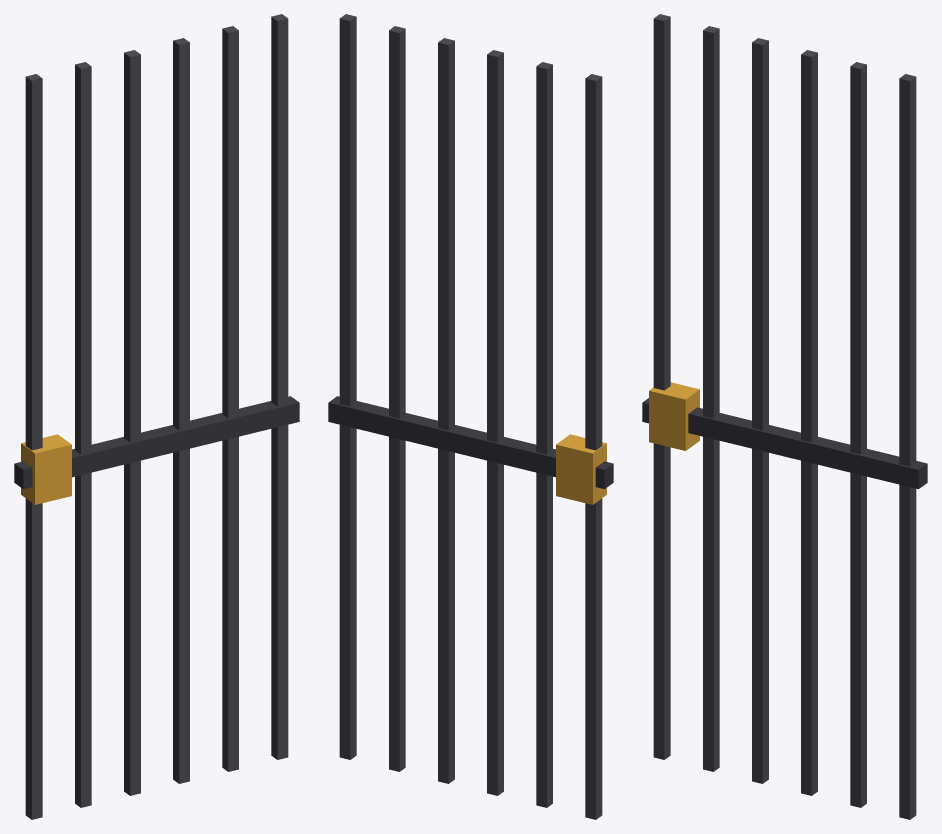
Rendered from cell_door.glb.
3 renders of one model, left to right at view 1: azimuth 30°, elevation 25°; view 2: azimuth 150°, elevation 25°; view 3: azimuth 330°, elevation 25°, orthographic.
Parts seen in each view (by area): view 1: Box1, Box6, Box5, Box2, Box4, Box3, Box7, Box8; view 2: Box1, Box6, Box5, Box2, Box4, Box3, Box7, Box8; view 3: Box1, Box6, Box2, Box5, Box3, Box4, Box7, Box8.
Part boxes in pixels (x1,y1,x2,y2): Box1: [271, 14, 288, 759]; Box6: [25, 74, 42, 819]; Box5: [75, 62, 91, 807]; Box2: [222, 26, 238, 771]; Box4: [124, 50, 140, 795]; Box3: [173, 38, 189, 783]; Box7: [14, 396, 299, 489]; Box8: [21, 434, 71, 504]; Box1: [339, 14, 356, 759]; Box6: [585, 74, 602, 819]; Box5: [536, 62, 552, 807]; Box2: [389, 26, 405, 771]; Box4: [487, 50, 503, 795]; Box3: [438, 38, 454, 783]; Box7: [328, 396, 613, 489]; Box8: [556, 434, 606, 504]; Box1: [899, 74, 916, 819]; Box6: [653, 14, 670, 759]; Box2: [850, 62, 866, 807]; Box5: [703, 26, 719, 771]; Box3: [801, 50, 817, 795]; Box4: [752, 38, 768, 783]; Box7: [642, 398, 927, 489]; Box8: [649, 382, 699, 450].
Bounding box in the file's own units: 0.9 × 2.3 × 0.08.
